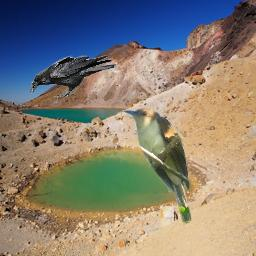Crow: (30, 55, 116, 97)
Cuckoo: (120, 106, 194, 228)
